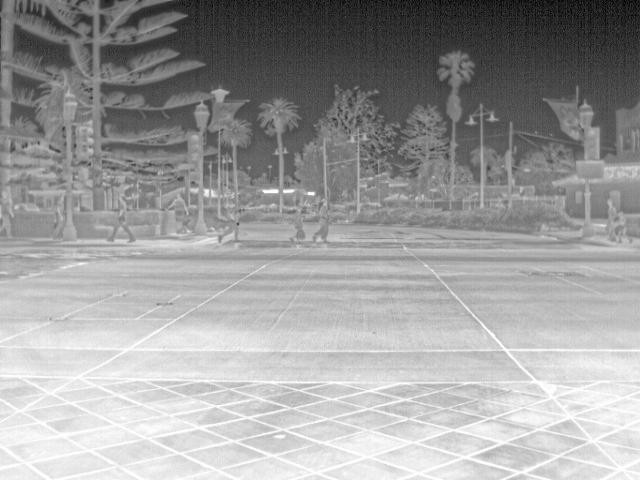person: (107, 196, 136, 245), (215, 203, 246, 243), (311, 200, 333, 241), (167, 192, 189, 232), (614, 210, 635, 246), (290, 204, 309, 242), (1, 190, 16, 238), (606, 197, 620, 243)
